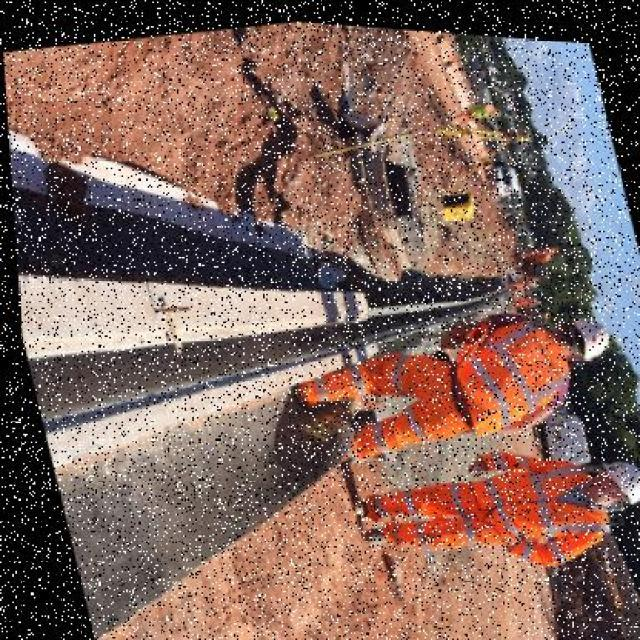helmet: (577, 436, 639, 513), (548, 292, 613, 362)
vest: (438, 430, 604, 573), (431, 300, 581, 436)
